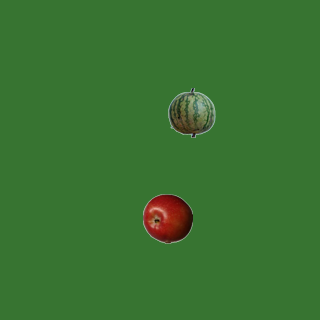Apple Braeburn: (142, 193, 192, 243)
Watermelon: (166, 87, 216, 137)
